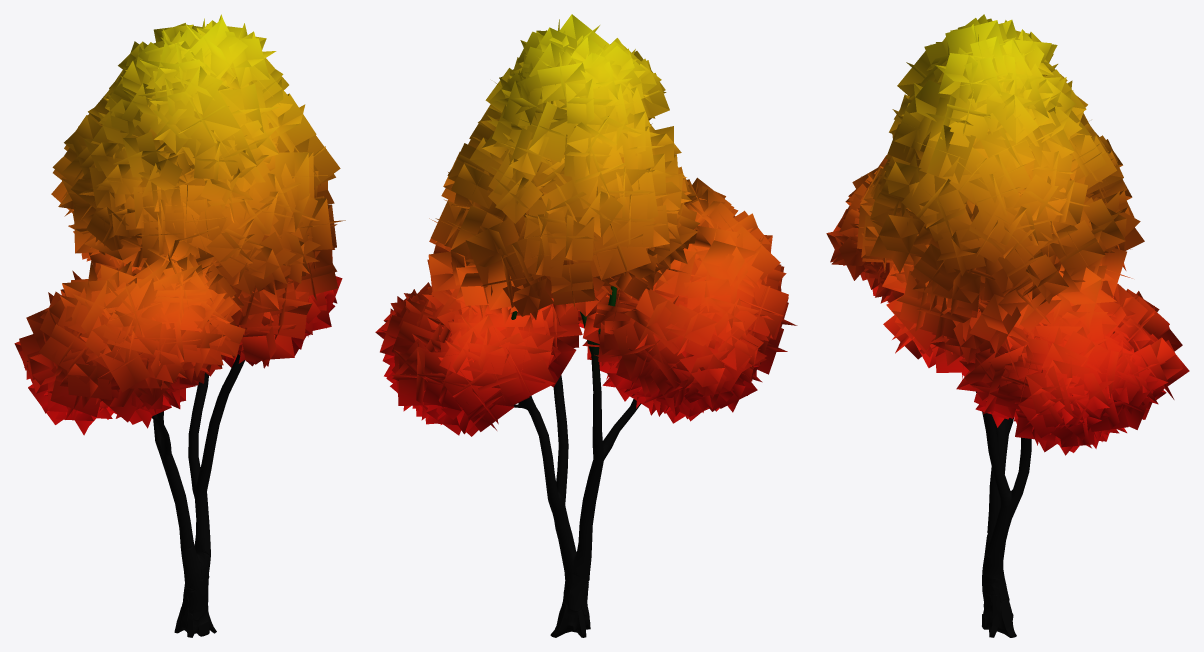
Rendered from TGV_Birch_Tree_02A.fbx.
3 views of the same model, side by side, from view 1: azimuth 30°, elevation 25°; view 2: azimuth 150°, elevation 25°; view 3: azimuth 270°, elevation 25° (orthographic). The views are drawn at different scales.
Visible parts, largest first — view 1: TGV_Birch_Tree_02A_LOD0; view 2: TGV_Birch_Tree_02A_LOD0; view 3: TGV_Birch_Tree_02A_LOD0.
Part boxes in pixels (x1,y1,x2,y2): TGV_Birch_Tree_02A_LOD0: (14, 14, 345, 637); TGV_Birch_Tree_02A_LOD0: (375, 14, 797, 637); TGV_Birch_Tree_02A_LOD0: (826, 14, 1189, 637).
Size of the model in its own units: 1154 by 1947 by 1043.
